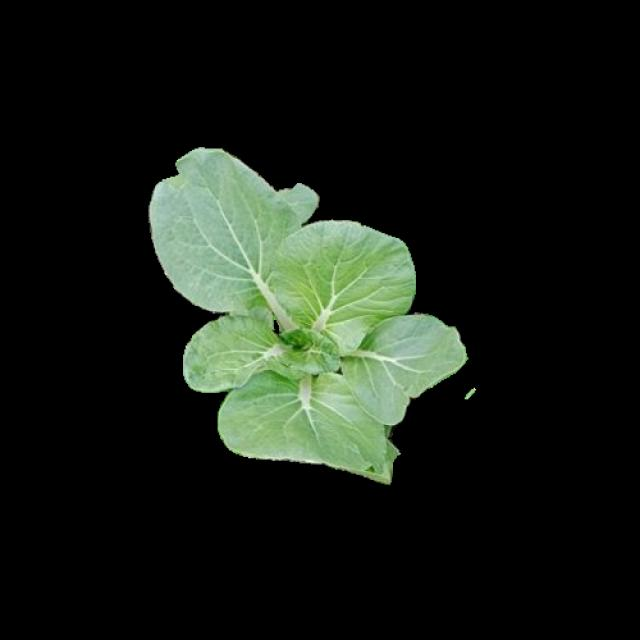not-mature: (150, 148, 466, 470)
unhealthy: (183, 316, 330, 391), (154, 160, 198, 192)
